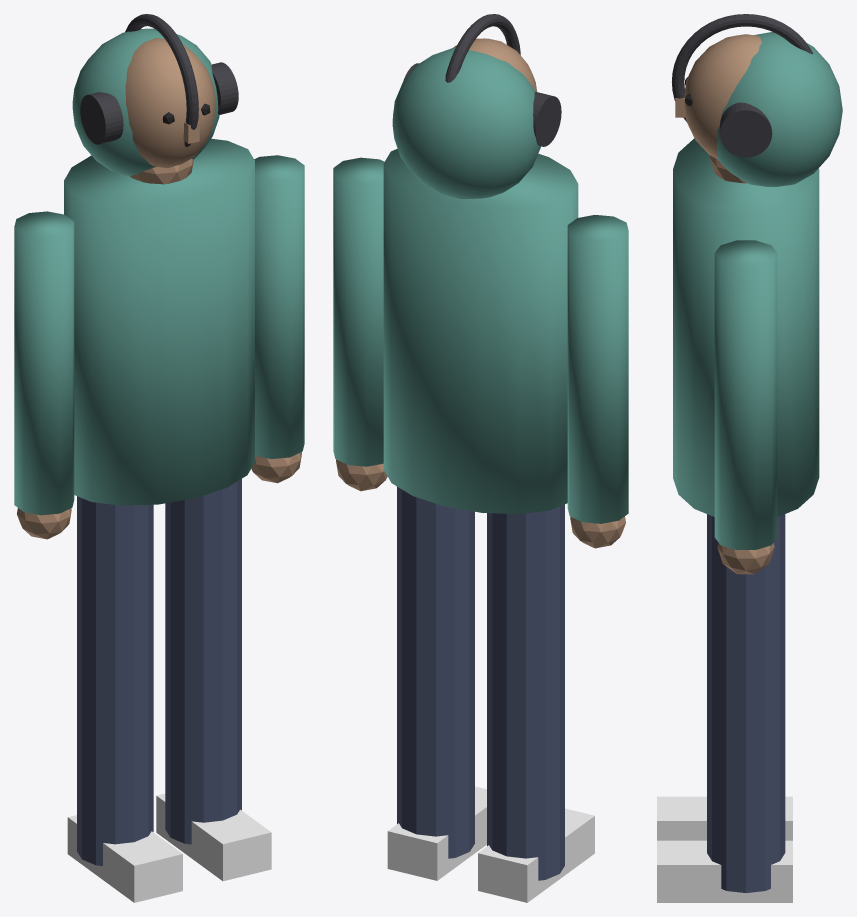
File: stranger.glb
3 renders of one model, left to right at view 1: azimuth 30°, elevation 25°; view 2: azimuth 150°, elevation 25°; view 3: azimuth 270°, elevation 25°, orthographic. The views are drawn at different scales.
Visible parts, largest first — view 1: Torso, Leg-0.1, Leg0.1, Arm-0.26, Arm0.26, Head, Hood, Shoe0.1, Shoe-0.1, HeadphoneBand, Cup-0.13, Hand-0.26 (+3 smaller); view 2: Torso, Leg-0.1, Leg0.1, Arm-0.26, Hood, Arm0.26, Shoe-0.1, Shoe0.1, HeadphoneBand, Cup-0.13, Hand-0.26, Head (+1 smaller); view 3: Torso, Leg0.1, Arm0.26, Hood, Shoe0.1, Head, Shoe-0.1, HeadphoneBand, Cup0.13, Hand0.26.
Boxes of the visible parts, bbox=[...] form: Torso: bbox=[64, 138, 254, 505]; Leg-0.1: bbox=[77, 496, 153, 865]; Leg0.1: bbox=[165, 479, 241, 844]; Arm-0.26: bbox=[14, 211, 74, 515]; Arm0.26: bbox=[254, 155, 304, 458]; Head: bbox=[125, 38, 216, 167]; Hood: bbox=[72, 28, 219, 176]; Shoe0.1: bbox=[156, 793, 271, 881]; Shoe-0.1: bbox=[67, 815, 182, 902]; HeadphoneBand: bbox=[125, 14, 198, 147]; Cup-0.13: bbox=[80, 92, 123, 144]; Hand-0.26: bbox=[17, 508, 71, 539]; Torso: bbox=[383, 149, 578, 514]; Leg-0.1: bbox=[487, 504, 564, 880]; Leg0.1: bbox=[397, 486, 474, 858]; Arm-0.26: bbox=[567, 215, 628, 523]; Hood: bbox=[392, 48, 540, 199]; Arm0.26: bbox=[333, 157, 384, 466]; Shoe-0.1: bbox=[478, 808, 594, 902]; Shoe0.1: bbox=[387, 786, 486, 880]; HeadphoneBand: bbox=[445, 14, 520, 82]; Cup-0.13: bbox=[533, 91, 561, 146]; Hand-0.26: bbox=[570, 516, 625, 548]; Head: bbox=[453, 38, 537, 91]; Torso: bbox=[673, 138, 819, 516]; Leg0.1: bbox=[707, 514, 785, 892]; Arm0.26: bbox=[714, 240, 777, 549]; Hood: bbox=[716, 32, 842, 186]; Shoe0.1: bbox=[657, 840, 792, 902]; Head: bbox=[684, 34, 761, 158]; Shoe-0.1: bbox=[657, 796, 792, 840]; HeadphoneBand: bbox=[672, 14, 813, 121]; Cup0.13: bbox=[720, 102, 772, 157]; Hand0.26: bbox=[717, 543, 774, 574].
Size of the model in its own units: 0.6341 by 1.8 by 0.355.
